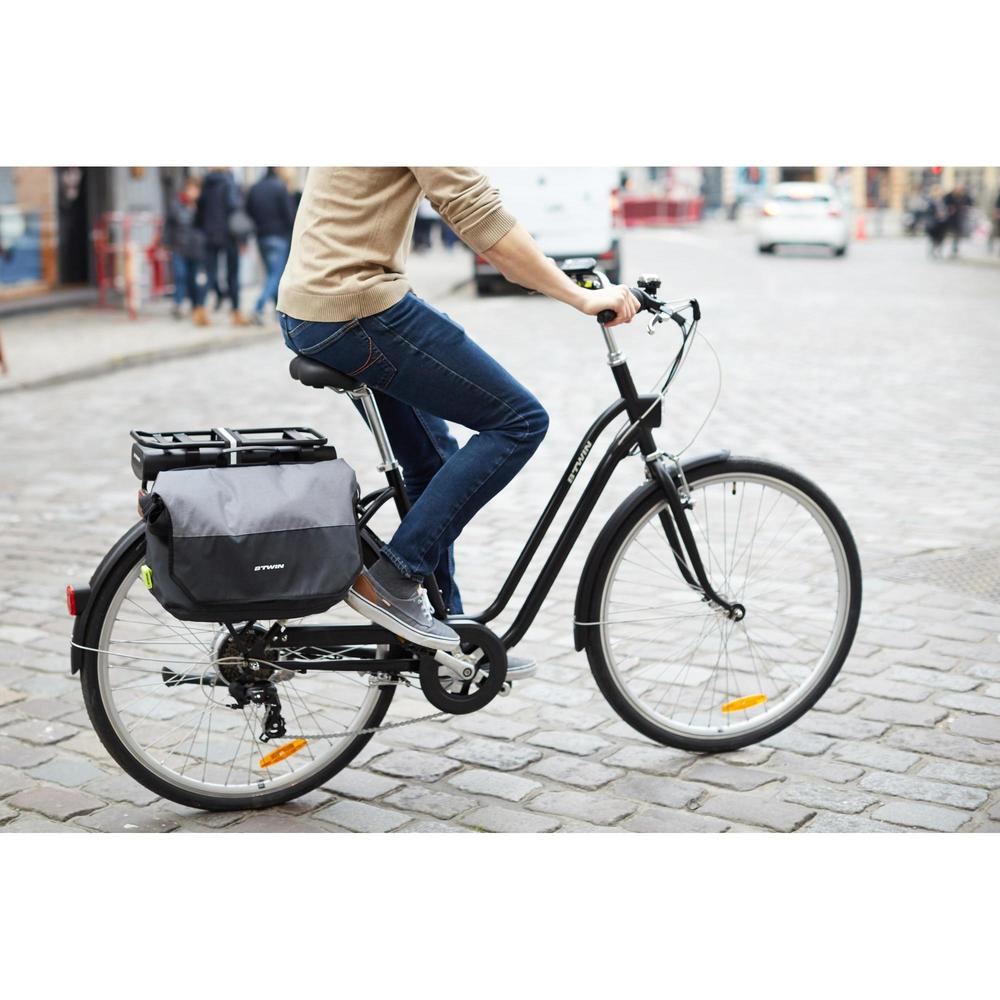UrbanBike: (64, 257, 848, 819)
